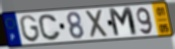8: (66, 11, 86, 40)
9: (136, 6, 154, 36)
C: (37, 14, 62, 42)
G: (18, 14, 42, 44)
M: (107, 6, 140, 39)
X: (84, 8, 110, 40)
